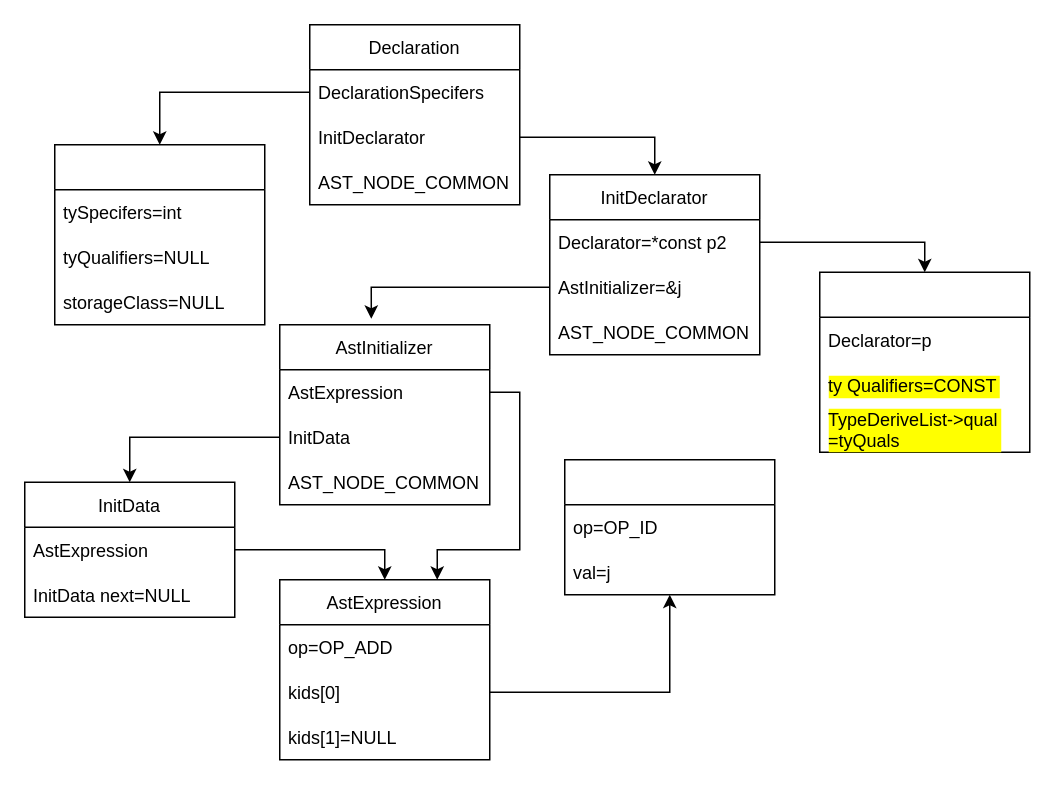
Some shapes in this 1055 by 785 pixel diagram are drawn without their labels. The box of each missing label's shape, as (x1, y1, x2, y2) in pixels:
PointerDeclarator: (818, 271, 1030, 452)
Primary: (563, 458, 775, 595)
